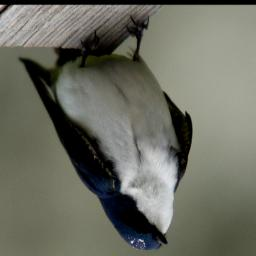Swallow: (18, 13, 195, 252)
